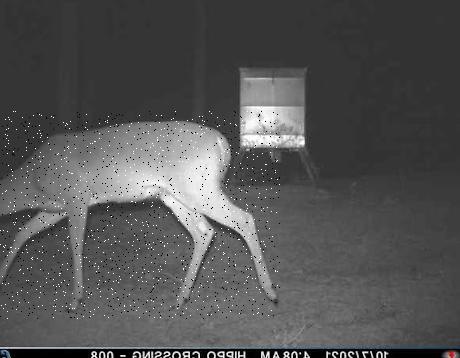Deer: (0, 111, 280, 319)
